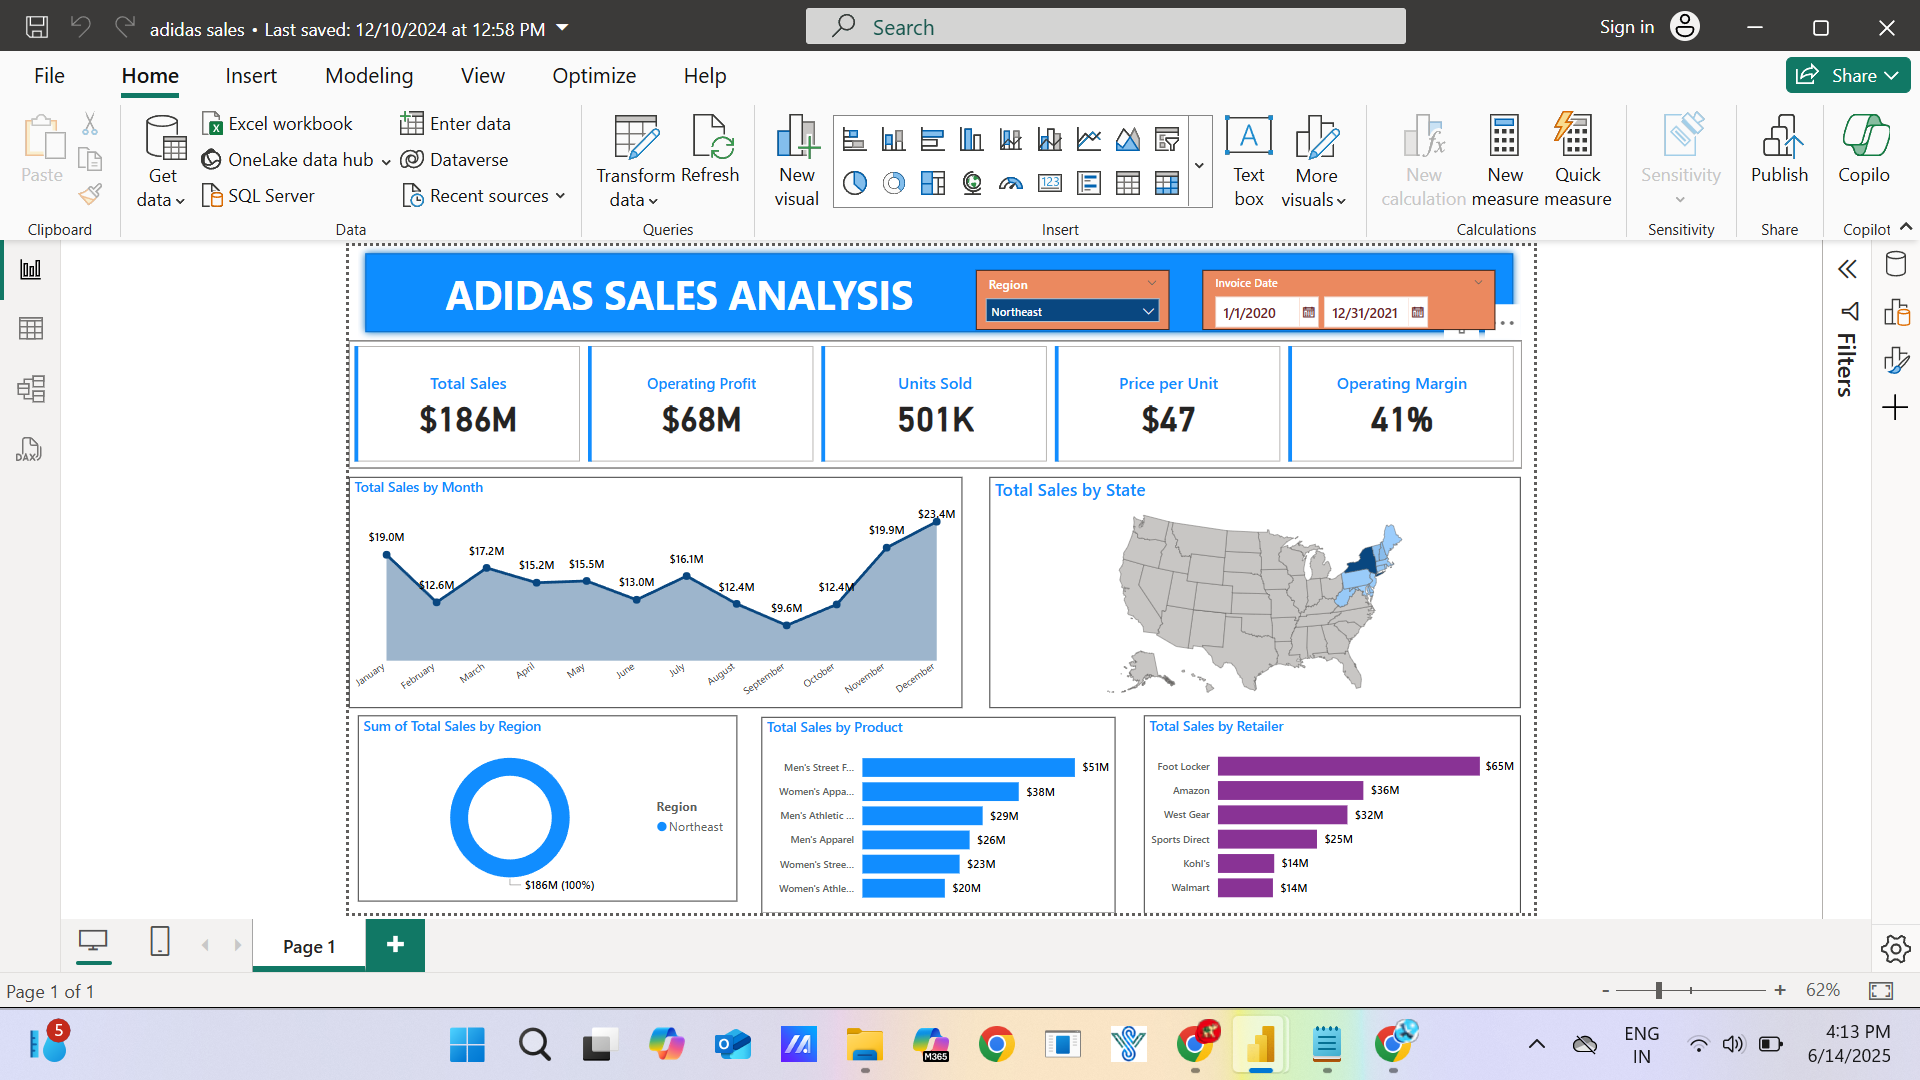

The page's visual inventory and layout, read from the dashboard file:
{"tool":"powerbi","page":{"name":"Page 1","canvas":[1280,720],"ordinal":0},"visuals":[{"type":"shape","box":[10,0,1255,101],"z":0},{"type":"textbox","box":[98.8,17.8,540.8,82.6],"z":1000},{"type":"cardVisual","fields":{"Data":["Sum(Data Sales Adidas.Total Sales)","Sum(Data Sales Adidas.Operating Profit)","Sum(Data Sales Adidas.Units Sold)","Avg(Data Sales Adidas.Price per Unit)","Avg(Data Sales Adidas.Operating Margin)"]},"box":[0,101.3,1265.8,137.7],"z":2000},{"type":"areaChart","title":" Total Sales by Month","fields":{"Category":["Data Sales Adidas.Invoice Date.Variation.Date Hierarchy.Month"],"Y":["Sum(Data Sales Adidas.Total Sales)"]},"box":[0,249.4,662.3,249.4],"z":3000},{"type":"shapeMap","title":"Total Sales by State","fields":{"Category":["Data Sales Adidas.State"],"Value":["Sum(Data Sales Adidas.Total Sales)"]},"box":[691.4,249.4,573.2,249.4],"z":4000},{"type":"donutChart","fields":{"Category":["Data Sales Adidas.Region"],"Y":["Sum(Data Sales Adidas.Total Sales)"]},"box":[9.7,506.8,409.7,200.8],"z":5000},{"type":"barChart","title":"Total Sales by Product","fields":{"Y":["Sum(Data Sales Adidas.Total Sales)"],"Category":["Data Sales Adidas.Product"]},"box":[445.3,508.4,382.1,212.1],"z":6000},{"type":"barChart","title":"Total Sales by Retailer","fields":{"Y":["Sum(Data Sales Adidas.Total Sales)"],"Category":["Data Sales Adidas.Retailer"]},"box":[858.2,506.8,406.4,213.7],"z":7000},{"type":"slicer","fields":{"Values":["Data Sales Adidas.Region"]},"box":[676.5,26.3,208.6,64.8],"z":7001},{"type":"slicer","fields":{"Values":["Data Sales Adidas.Invoice Date"]},"box":[921.5,26.3,315.9,64.8],"z":7002}]}

Visuals, with their boxes on the page's 1280x720 design canvas (x1, y1, x2, y2). These are canvas units, not pixel positions in the 1920x1080 screenshot, which may show the page scaled, cropped or inside an application window:
shape: bbox=[10, 0, 1265, 101]
textbox: bbox=[99, 18, 640, 100]
cardVisual - Sum(Data Sales Adidas.Total Sales) x Sum(Data Sales Adidas.Operating Profit): bbox=[0, 101, 1266, 239]
" Total Sales by Month" areaChart: bbox=[0, 249, 662, 499]
"Total Sales by State" shapeMap: bbox=[691, 249, 1265, 499]
donutChart - Data Sales Adidas.Region x Sum(Data Sales Adidas.Total Sales): bbox=[10, 507, 419, 708]
"Total Sales by Product" barChart: bbox=[445, 508, 827, 720]
"Total Sales by Retailer" barChart: bbox=[858, 507, 1265, 720]
slicer - Data Sales Adidas.Region: bbox=[676, 26, 885, 91]
slicer - Data Sales Adidas.Invoice Date: bbox=[922, 26, 1237, 91]
